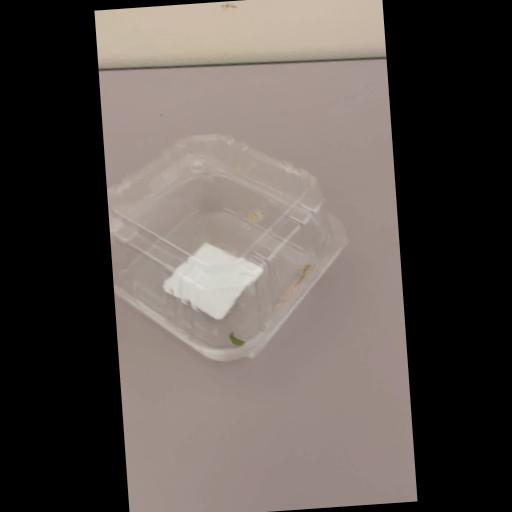small_plastic_container: (104, 126, 356, 366)
